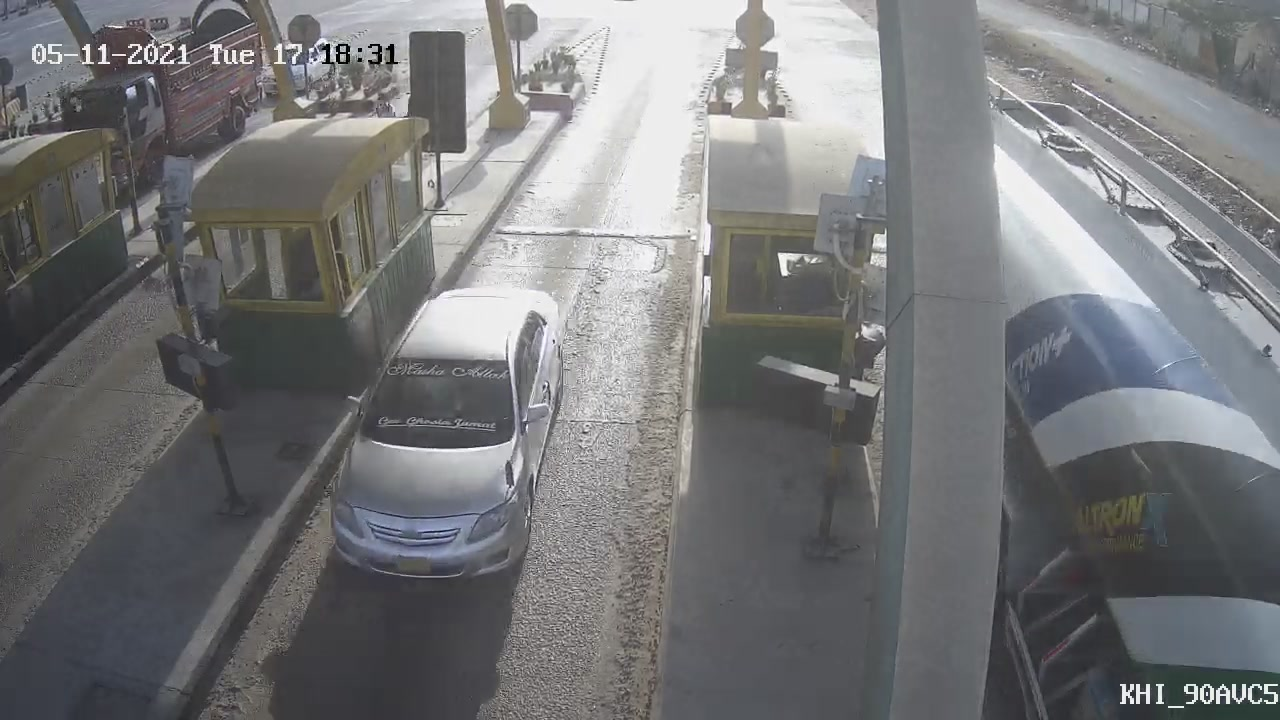F1: (282, 268, 583, 604)
